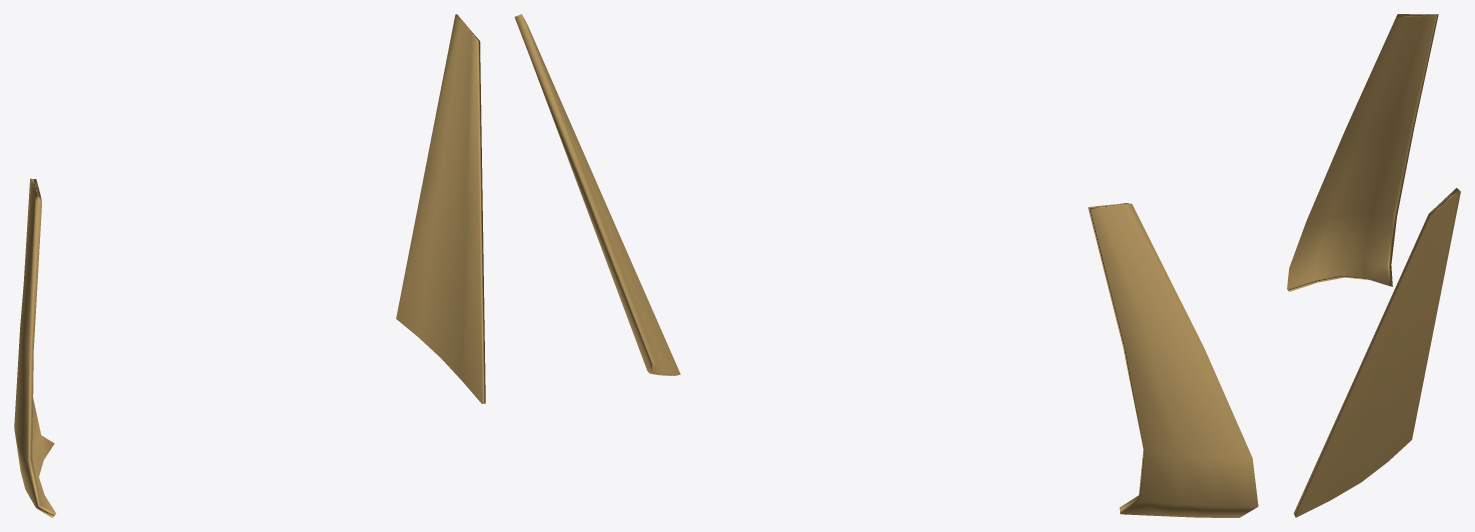
3 renders of one model, left to right at view 1: azimuth 30°, elevation 25°; view 2: azimuth 150°, elevation 25°; view 3: azimuth 270°, elevation 25°, orthographic. The views are drawn at different scales.
Parts seen in each view (by area): view 1: 右侧半月板髌骨韧带; view 2: 右侧半月板髌骨韧带; view 3: 右侧半月板髌骨韧带.
Part boxes in pixels (x1,y1,x2,y2): 右侧半月板髌骨韧带: (14,14,485,517); 右侧半月板髌骨韧带: (514,14,1258,517); 右侧半月板髌骨韧带: (1287,14,1460,517).
Size of the model in its own units: 0.0694 by 0.0428 by 0.0188.
